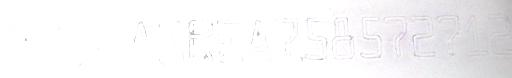letter: (28, 20, 62, 66), (214, 17, 246, 65), (62, 18, 94, 66), (184, 17, 216, 63), (154, 19, 186, 65), (124, 19, 156, 65), (481, 12, 511, 60), (94, 20, 122, 68), (408, 14, 438, 58), (270, 16, 300, 60), (301, 16, 329, 62), (354, 17, 384, 59), (330, 15, 356, 61), (246, 19, 272, 63), (435, 14, 461, 58), (382, 15, 408, 58), (462, 13, 482, 59)
